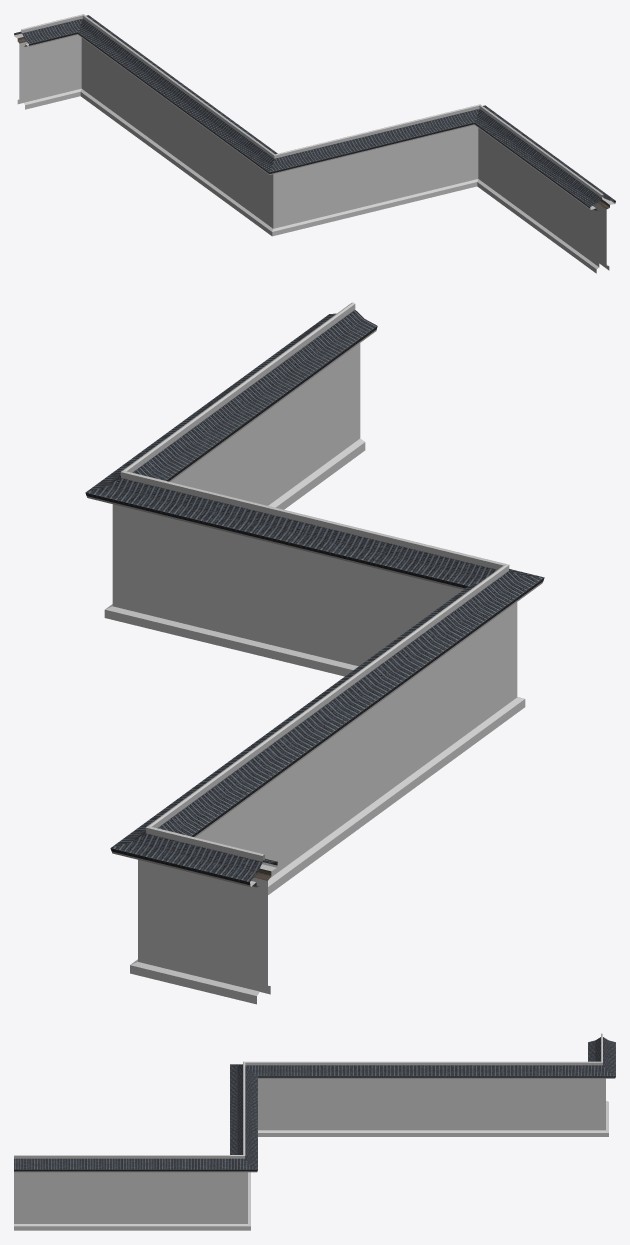
Rendered from JiaYeSi_WeiQiang_6.FBX.
3 views of the same model, one above another, from view 1: azimuth 30°, elevation 25°; view 2: azimuth 150°, elevation 25°; view 3: azimuth 270°, elevation 25° (orthographic). The views are drawn at different scales.
Parts seen in each view (by area): view 1: Object01, Object09; view 2: Object01, Object09; view 3: Object01, Object09.
Boxes of the visible parts, box(x1,y1,x2,y2) form: Object01: box(14, 14, 615, 273); Object09: box(14, 15, 615, 211); Object01: box(86, 302, 543, 1004); Object09: box(85, 310, 544, 887); Object01: box(14, 1033, 615, 1230); Object09: box(14, 1037, 615, 1171).
Bounding box in the file's own units: 2690 × 713 × 5366.
